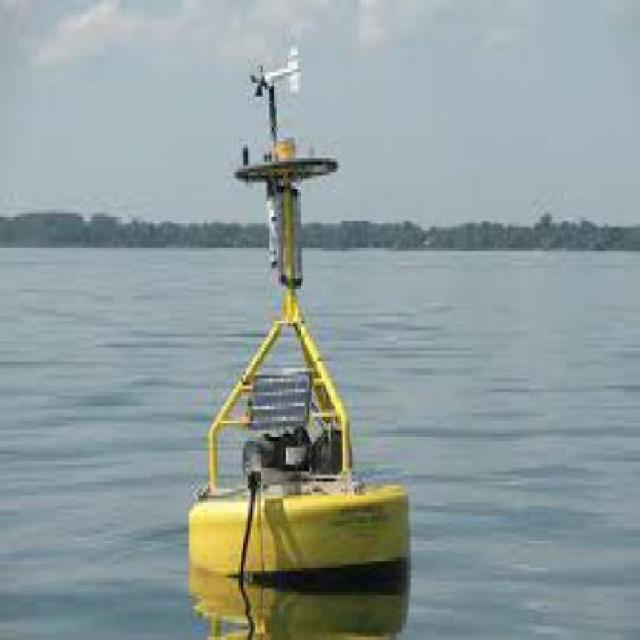buoy: (173, 39, 421, 600)
